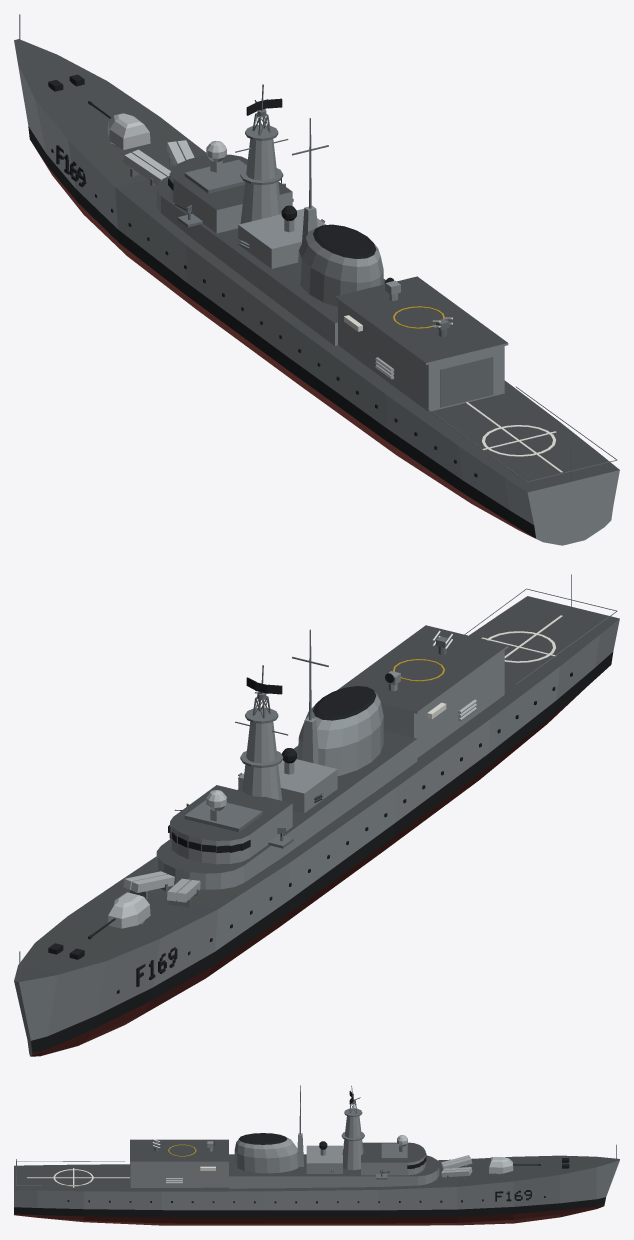
Rendered from type21.glb.
3 views of the same model, one above another, from view 1: azimuth 30°, elevation 25°; view 2: azimuth 150°, elevation 25°; view 3: azimuth 270°, elevation 25° (orthographic). The views are drawn at different scales.
Parts seen in each view (by area): view 1: Hull, Hangar roof, Deckhouse 01, Hangar, Funnel, Bridge, Block 02, Foremast, Hangar door, Funnel top, Bridge roof, 4.5in Mk8 house (+2 smaller); view 2: Hull, Deckhouse 01, Hangar roof, Bridge, Hangar, Funnel, Block 02, Foremast, Funnel top, Bridge roof, 4.5in Mk8 house, Exocet.001 (+2 smaller); view 3: Hull, Deckhouse 01, Hangar, Hangar roof, Funnel, Bridge, Block 02, Foremast, Funnel top, Bridge roof, 4.5in Mk8 house, Flight deck marks (+3 smaller).
Boxes of the visible parts, x1,y1,x2,y2 form: Hull: [14, 39, 619, 545]; Hangar roof: [335, 276, 508, 364]; Deckhouse 01: [156, 176, 385, 345]; Hangar: [338, 301, 504, 411]; Funnel: [297, 227, 383, 307]; Bridge: [170, 154, 292, 233]; Block 02: [238, 208, 325, 268]; Foremast: [240, 139, 281, 223]; Hangar door: [440, 356, 493, 407]; Funnel top: [313, 224, 376, 258]; Bridge roof: [184, 159, 246, 193]; 4.5in Mk8 house: [107, 113, 150, 149]; Hull: [14, 596, 619, 1056]; Deckhouse 01: [156, 730, 417, 889]; Hangar roof: [337, 625, 508, 713]; Bridge: [170, 785, 292, 864]; Hangar: [381, 650, 504, 757]; Funnel: [297, 691, 383, 775]; Block 02: [238, 759, 337, 813]; Foremast: [242, 721, 282, 800]; Funnel top: [313, 686, 376, 720]; Bridge roof: [184, 800, 262, 831]; 4.5in Mk8 house: [107, 892, 150, 928]; Exocet.001: [123, 871, 174, 892]; Hull: [14, 1155, 619, 1225]; Deckhouse 01: [229, 1154, 439, 1188]; Hangar: [130, 1163, 228, 1187]; Hangar roof: [130, 1139, 228, 1162]; Funnel: [234, 1137, 298, 1173]; Bridge: [361, 1142, 425, 1175]; Block 02: [306, 1145, 342, 1173]; Foremast: [342, 1116, 363, 1170]; Funnel top: [239, 1133, 287, 1144]; Bridge roof: [381, 1143, 407, 1159]; 4.5in Mk8 house: [489, 1157, 513, 1173]; Flight deck marks: [27, 1168, 129, 1187].
Size of the model in its own units: 12.98 by 29 by 117.
